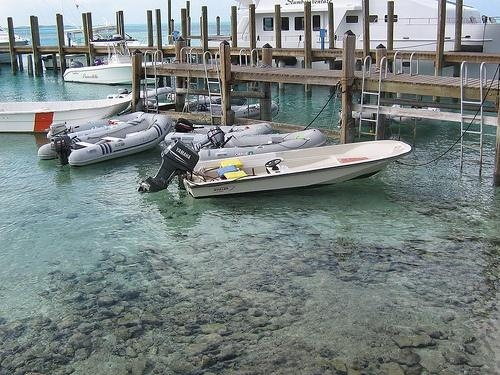boat: (227, 1, 500, 80), (139, 138, 415, 199), (40, 111, 173, 164), (164, 129, 328, 163), (1, 93, 135, 133), (62, 47, 132, 84), (62, 25, 140, 48), (1, 27, 32, 64)
